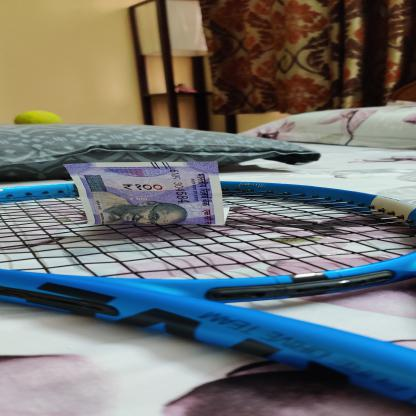New100Front: (62, 159, 235, 228)
